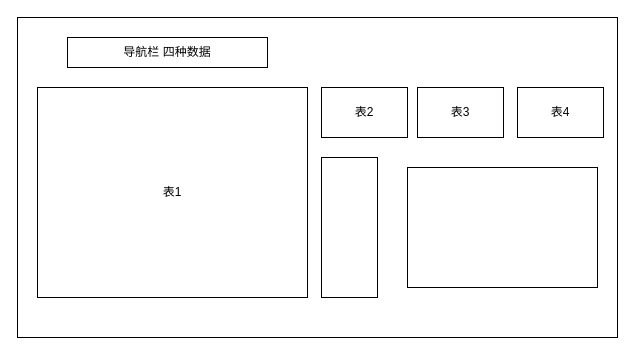
Some shapes in this 635 by 355 pixel diagram are drawn without their labels. Each missing label, with the centre of its shape:
地图: point 502,227
条件查询的各种选项: point 349,227
